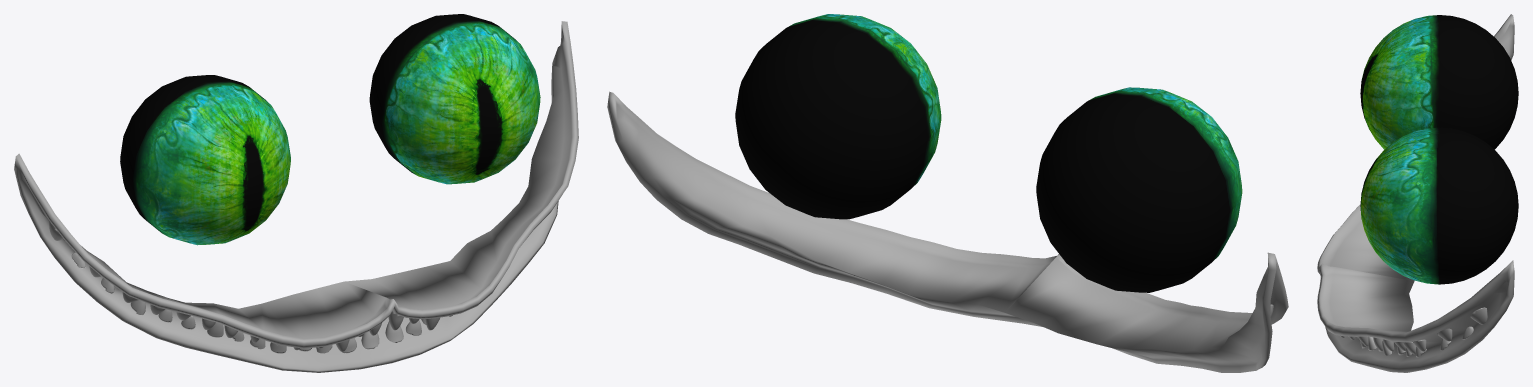
The model's file is Smile.fbx.
The picture shows the model from 3 angles, left to right: view 1: azimuth 30°, elevation 25°; view 2: azimuth 150°, elevation 25°; view 3: azimuth 270°, elevation 25°; orthographic projection. The views are drawn at different scales.
Visible parts, largest first — view 1: polySurface3, pSphere2, pSphere1, polySurface158; view 2: polySurface3, pSphere1, pSphere2; view 3: pSphere2, pSphere1, polySurface3, polySurface158.
Boxes of the visible parts, x1=… form: polySurface3: x1=14, y1=21, x2=578, y2=372; pSphere2: x1=369, y1=14, x2=540, y2=184; pSphere1: x1=120, y1=75, x2=290, y2=245; polySurface158: x1=49, y1=220, x2=452, y2=354; polySurface3: x1=607, y1=91, x2=1288, y2=372; pSphere1: x1=1036, y1=87, x2=1242, y2=292; pSphere2: x1=735, y1=14, x2=941, y2=219; pSphere2: x1=1360, y1=127, x2=1518, y2=284; pSphere1: x1=1360, y1=15, x2=1518, y2=149; polySurface3: x1=1317, y1=14, x2=1514, y2=372; polySurface158: x1=1340, y1=307, x2=1487, y2=357.
Bounding box in the file's own units: 2.1 × 0.9687 × 0.715.
